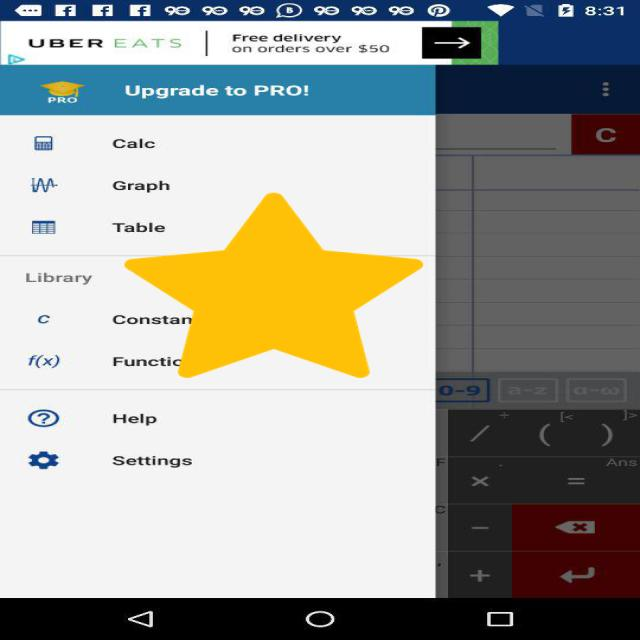forced continuity: (125, 193, 423, 378)
